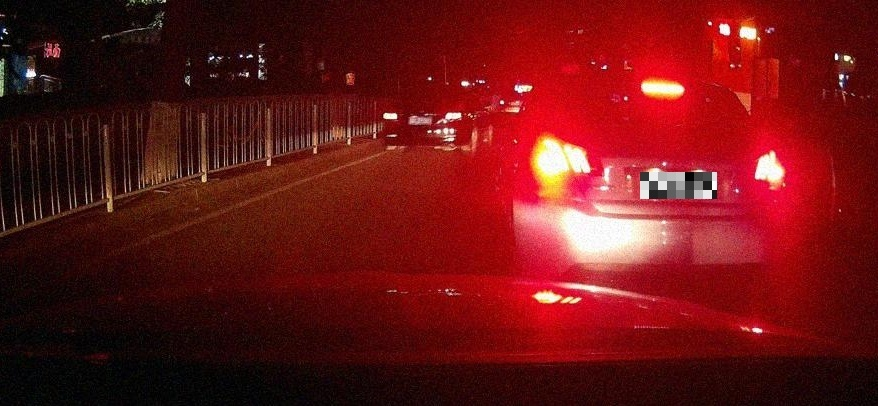L_light: (535, 141, 591, 176)
R_light: (752, 151, 784, 187)
T_light: (642, 80, 685, 99)
night-left: (531, 70, 786, 296)
plate_1: (640, 172, 717, 199)
